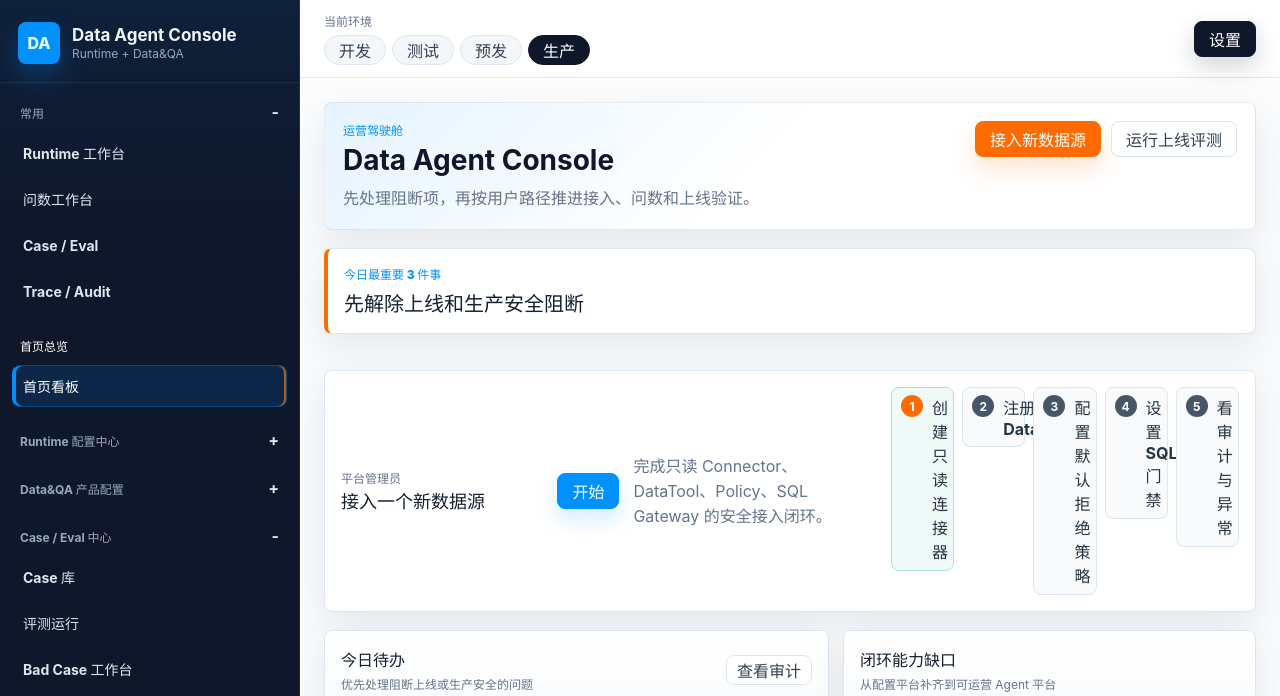
Data Agent Console MVP › opens and closes create modal
Click the button named "Data&QA 产品配置+".
click(72, 489)  # box x1=12 y1=473 x2=287 y2=503
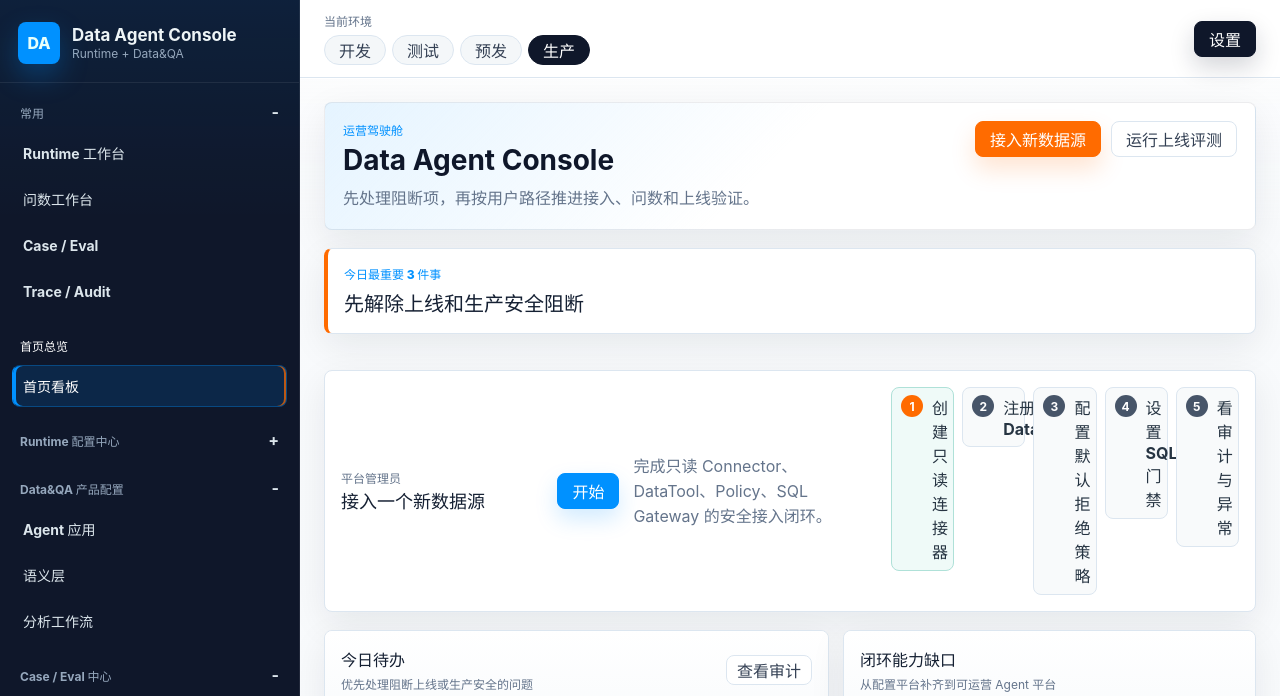
Click the button "Agent 应用".
click(59, 530)  # box x1=12 y1=508 x2=287 y2=550
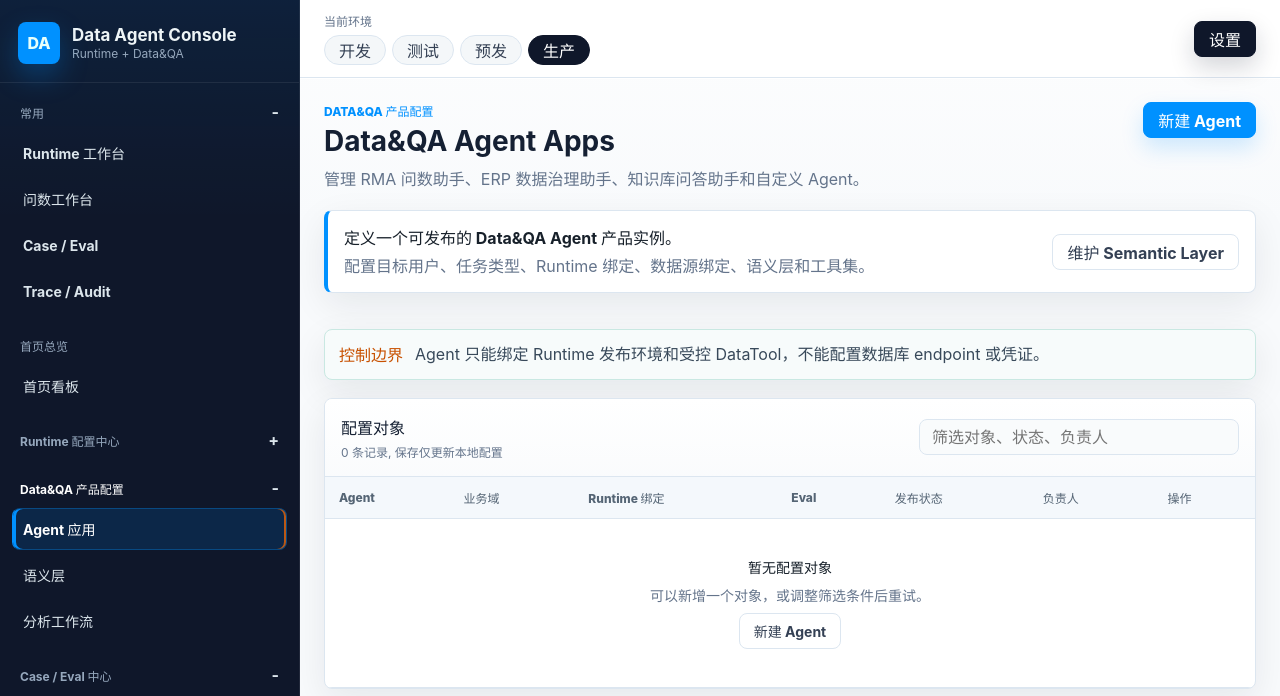
Click the button "新建 Agent" in the row of "Data&QA Agent Apps".
click(1200, 120)  # box x1=1143 y1=102 x2=1256 y2=138
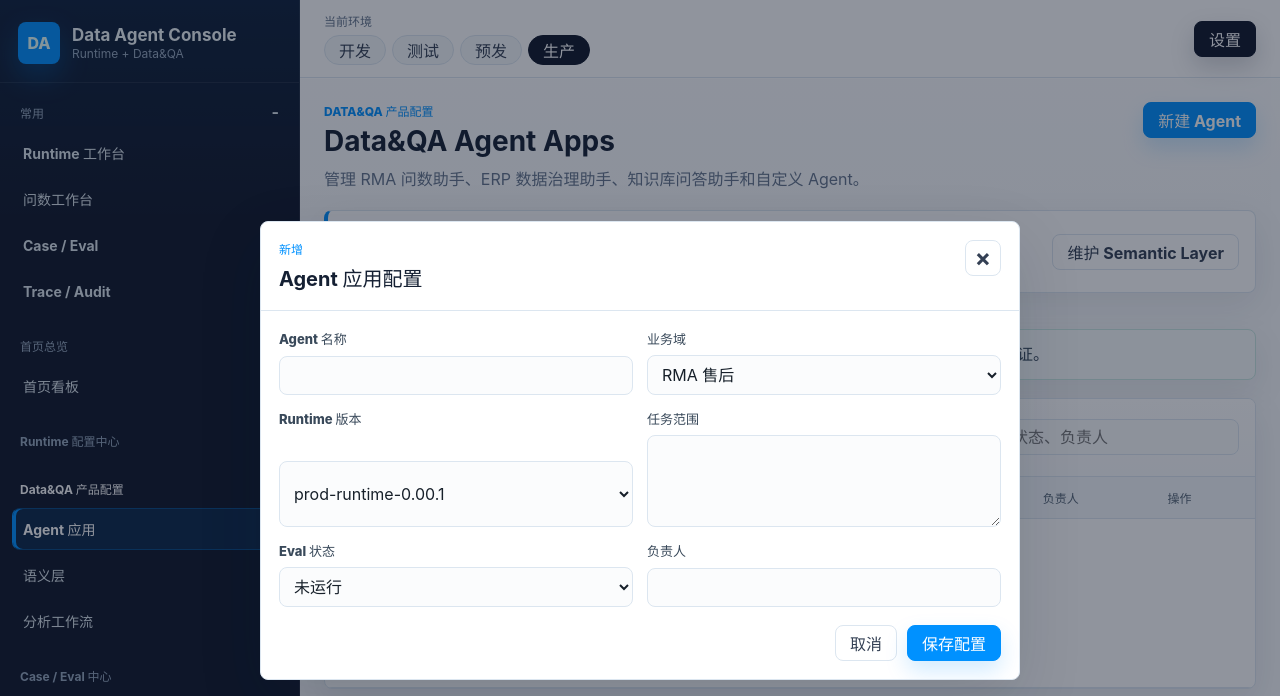
Expected: the dialog is shown, x1=260 y1=220 x2=1020 y2=680
Click the button "取消".
click(866, 642)  # box x1=835 y1=624 x2=897 y2=660
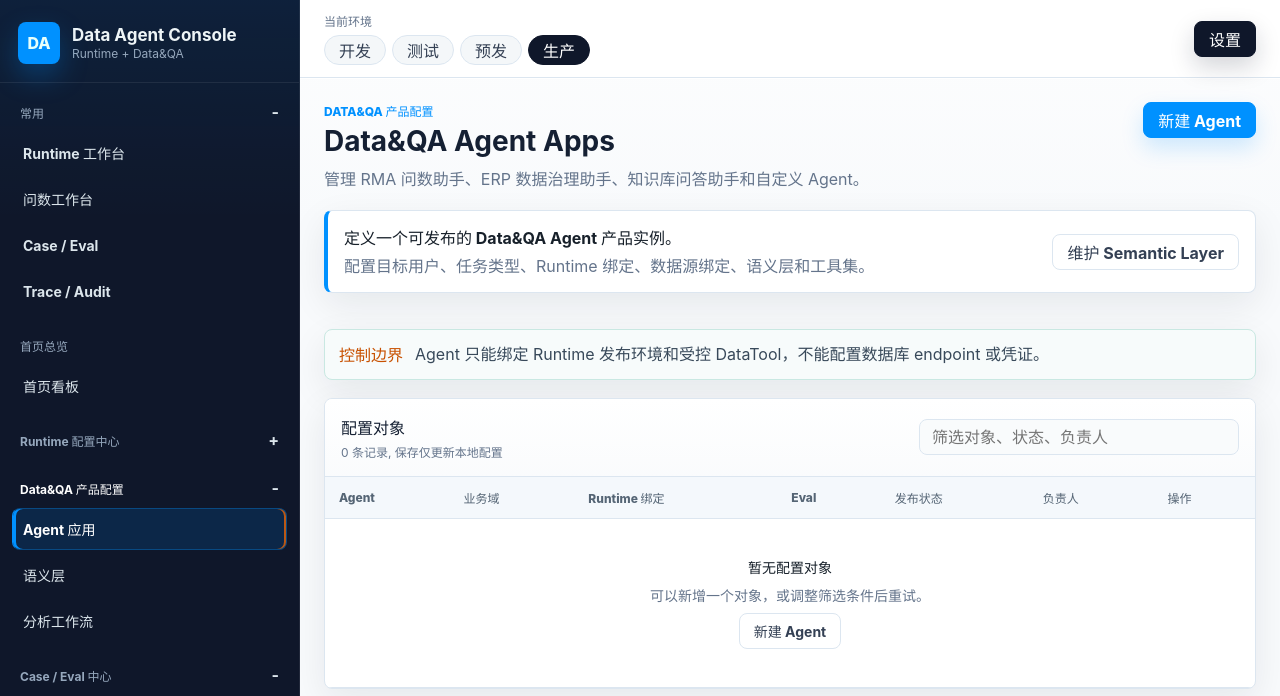
Expected: the dialog is gone
